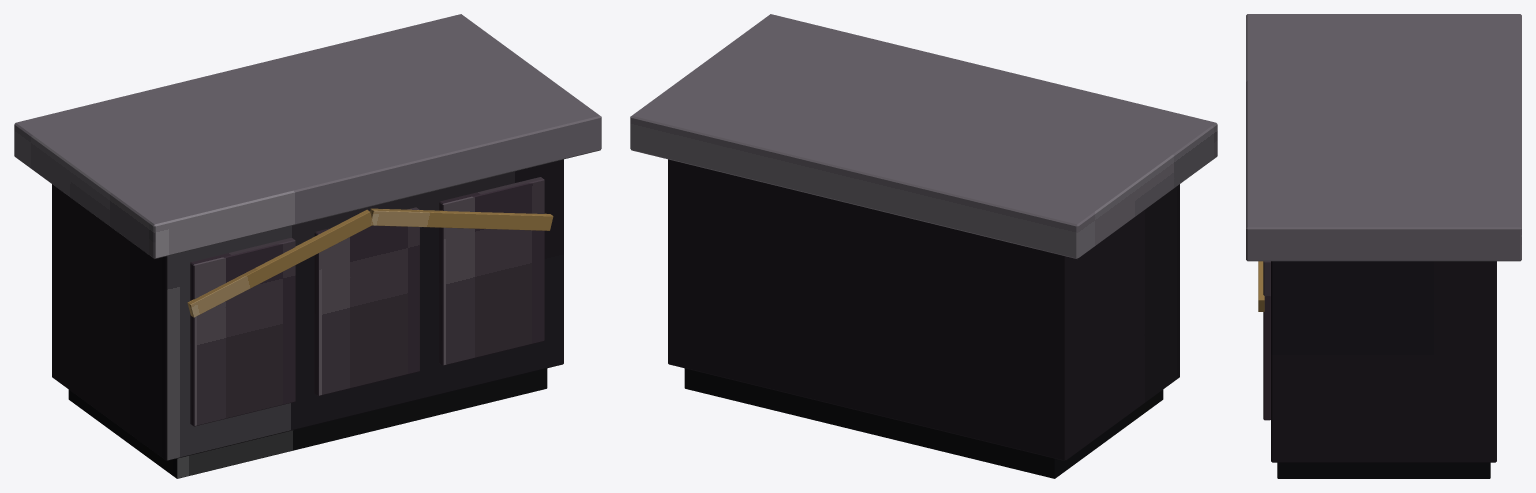
Rendered from gothic_kitchen_island.glb.
3 renders of one model, left to right at view 1: azimuth 30°, elevation 25°; view 2: azimuth 150°, elevation 25°; view 3: azimuth 270°, elevation 25°, orthographic.
Visible parts, largest first — view 1: IslandWorktop, IslandBody, IslandPanel_0.0, IslandPanel_0.45, IslandPanel_-0.45, IslandPlinth, IslandGothicArchLeft, IslandGothicArchRight; view 2: IslandBody, IslandWorktop, IslandPlinth; view 3: IslandWorktop, IslandBody, IslandPlinth, IslandPanel_0.45, IslandGothicArchRight.
Boxes of the visible parts, x1=… form: IslandWorktop: x1=14, y1=14, x2=601, y2=258; IslandBody: x1=52, y1=159, x2=563, y2=460; IslandPanel_0.0: x1=314, y1=207, x2=419, y2=396; IslandPanel_0.45: x1=439, y1=177, x2=544, y2=365; IslandPanel_-0.45: x1=190, y1=237, x2=295, y2=426; IslandPlinth: x1=68, y1=368, x2=547, y2=478; IslandGothicArchLeft: x1=187, y1=209, x2=373, y2=317; IslandGothicArchRight: x1=370, y1=208, x2=553, y2=230; IslandBody: x1=668, y1=159, x2=1179, y2=460; IslandWorktop: x1=630, y1=14, x2=1217, y2=258; IslandPlinth: x1=684, y1=368, x2=1163, y2=478; IslandWorktop: x1=1246, y1=14, x2=1521, y2=261; IslandBody: x1=1271, y1=261, x2=1496, y2=462; IslandPlinth: x1=1277, y1=462, x2=1490, y2=478; IslandPanel_0.45: x1=1263, y1=261, x2=1270, y2=420; IslandGothicArchRight: x1=1258, y1=261, x2=1264, y2=311.
Size of the model in its own units: 1.62 by 0.95 by 0.88.
Materials: 1 (1 with a texture image).
